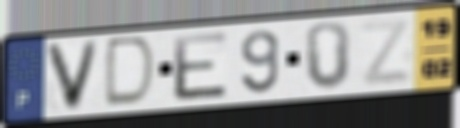0: (302, 20, 353, 94)
9: (239, 29, 282, 96)
D: (101, 34, 160, 110)
E: (171, 29, 231, 103)
V: (42, 38, 104, 114)
Z: (357, 15, 414, 88)
